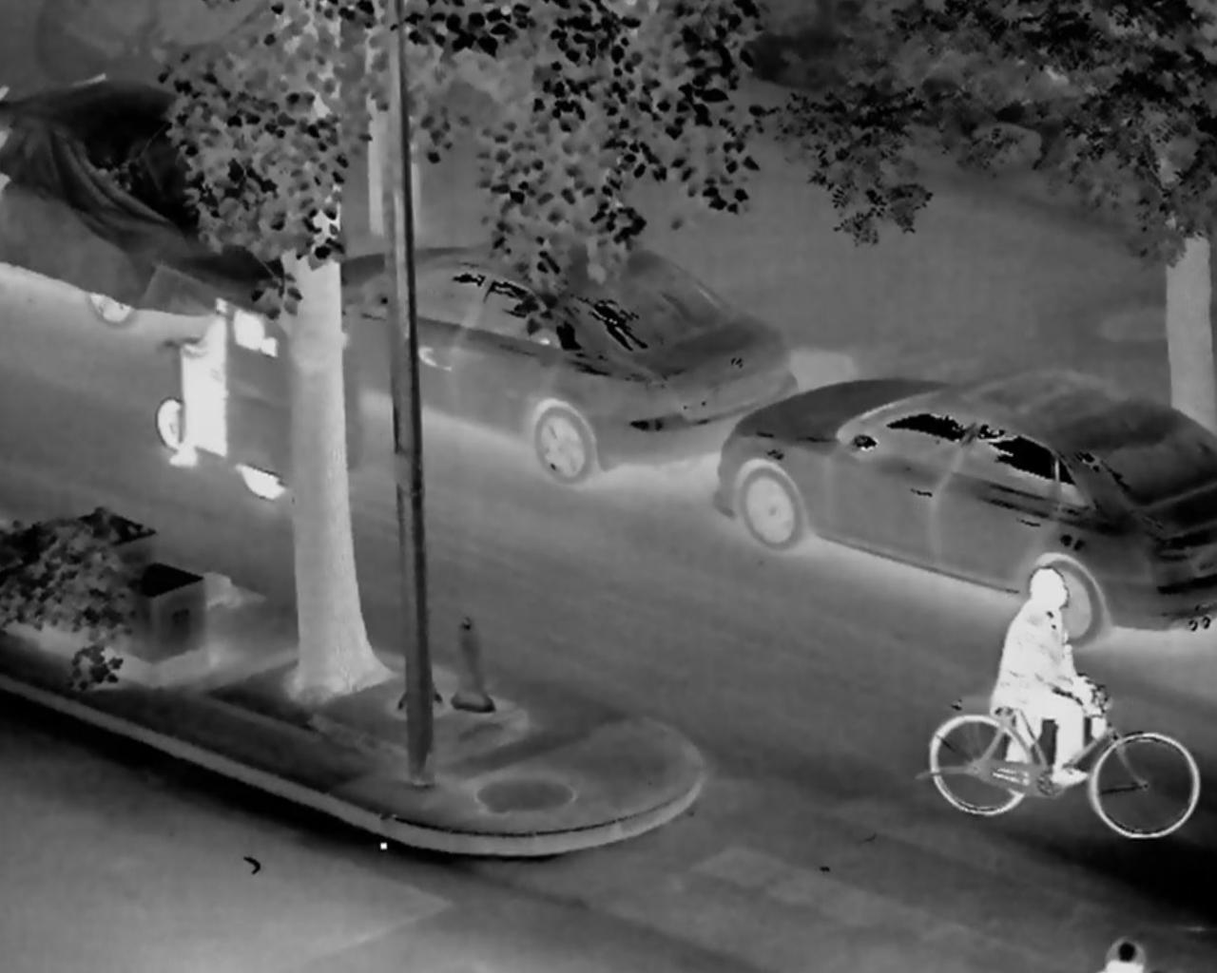person: (995, 563, 1111, 807), (167, 263, 291, 487)
